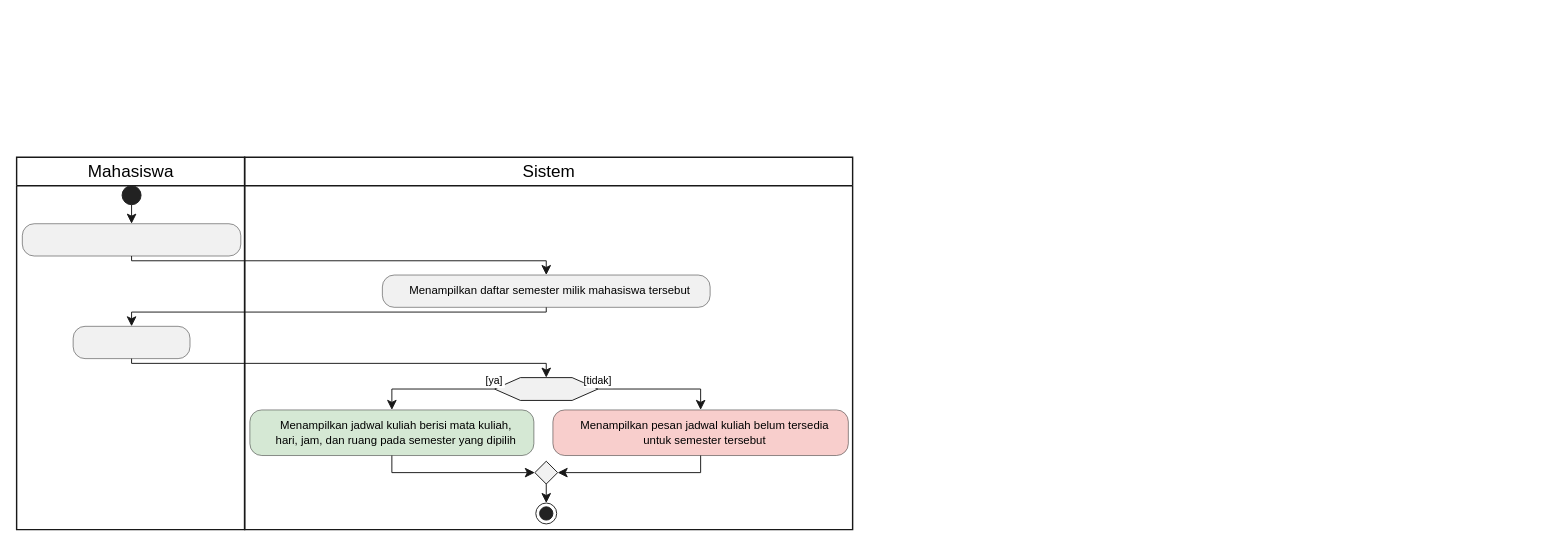
Some shapes in this 1563 by 546 pixel diagram are drawn without their labels. Each missing label, with the centre of its shape:
Jadwal tersedia?: the point at 546,388
Membuka fungsi Lihat Jadwal Kuliah: the point at 131,239
Memilih semester: the point at 131,342
